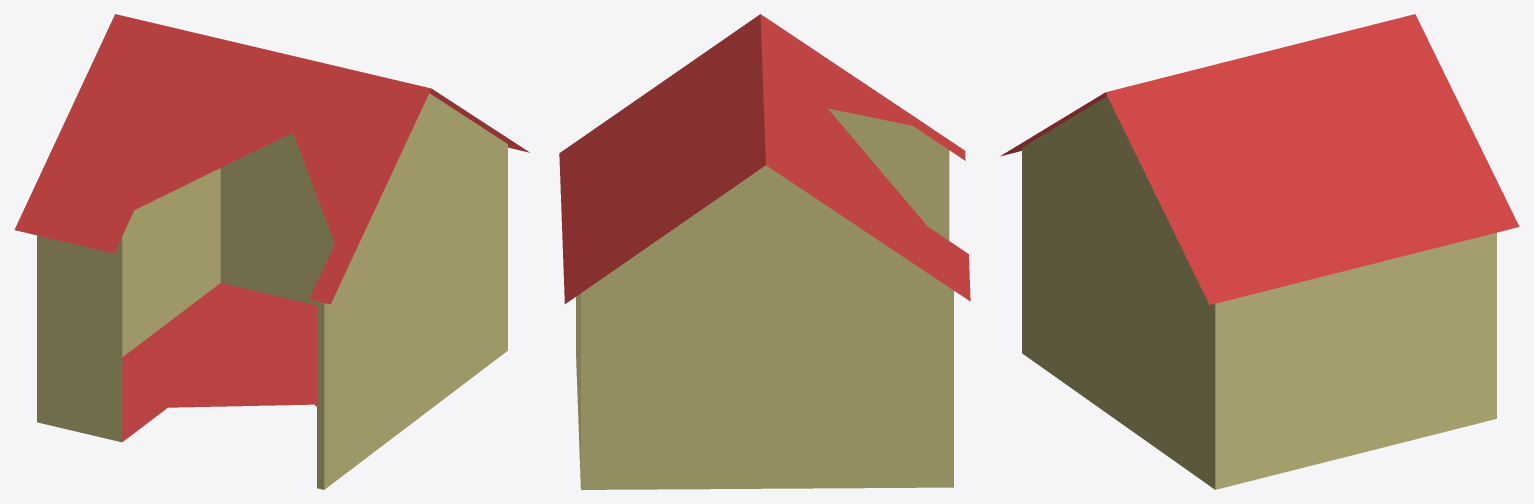
3 renders of one model, left to right at view 1: azimuth 30°, elevation 25°; view 2: azimuth 150°, elevation 25°; view 3: azimuth 270°, elevation 25°, orthographic.
Size of the model in its own units: 16.28 by 15.77 by 11.16.
